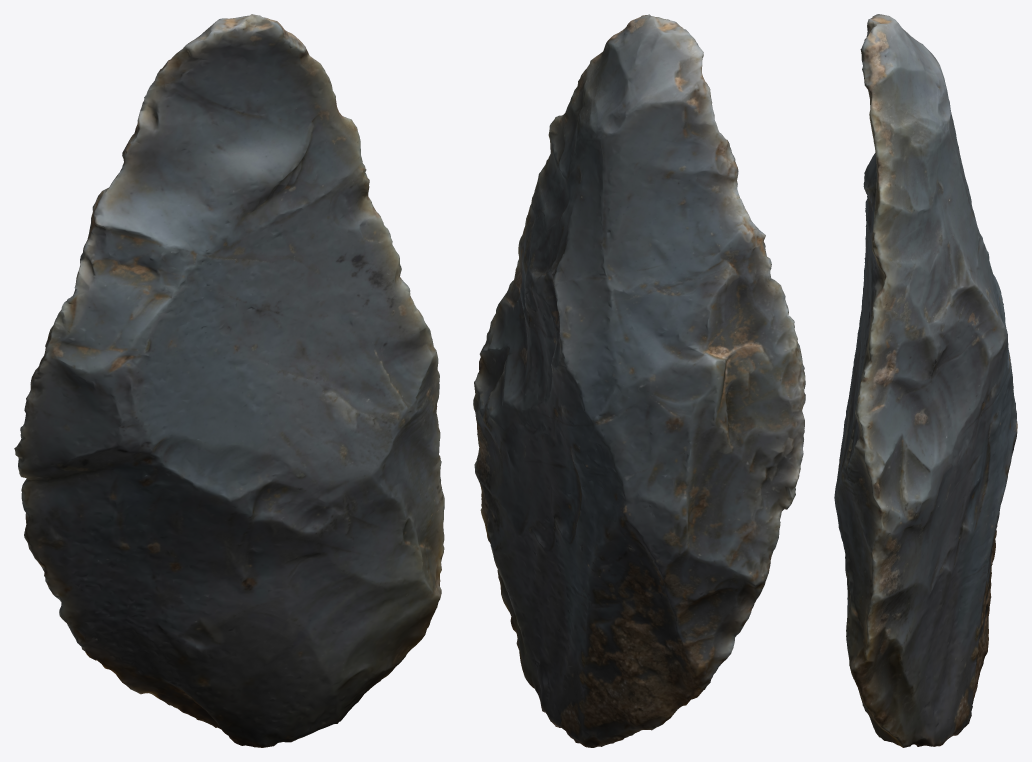
Rendered from Feuerstein1_50kTris_1x4kTex.gltf.
3 renders of one model, left to right at view 1: azimuth 30°, elevation 25°; view 2: azimuth 150°, elevation 25°; view 3: azimuth 270°, elevation 25°, orthographic. The views are drawn at different scales.
Visible parts, largest first — view 1: Feuerstein1_50kTris_1x4kTex:default1; view 2: Feuerstein1_50kTris_1x4kTex:default1; view 3: Feuerstein1_50kTris_1x4kTex:default1.
Part boxes in pixels (bbox=[...]): Feuerstein1_50kTris_1x4kTex:default1: bbox=[14, 14, 444, 747]; Feuerstein1_50kTris_1x4kTex:default1: bbox=[473, 14, 805, 747]; Feuerstein1_50kTris_1x4kTex:default1: bbox=[834, 14, 1017, 747].
Bounding box in the file's own units: 0.0476 × 0.0886 × 0.0212.
1 material, 1 textured.
